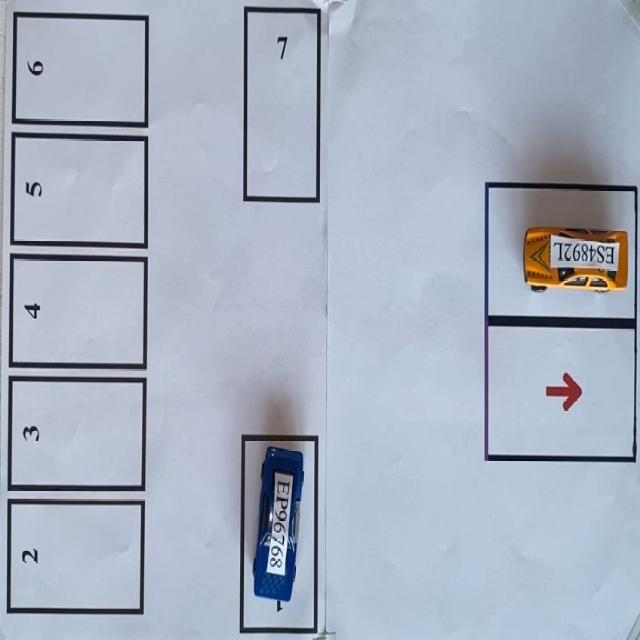car: (253, 447, 303, 610), (523, 227, 629, 292)
